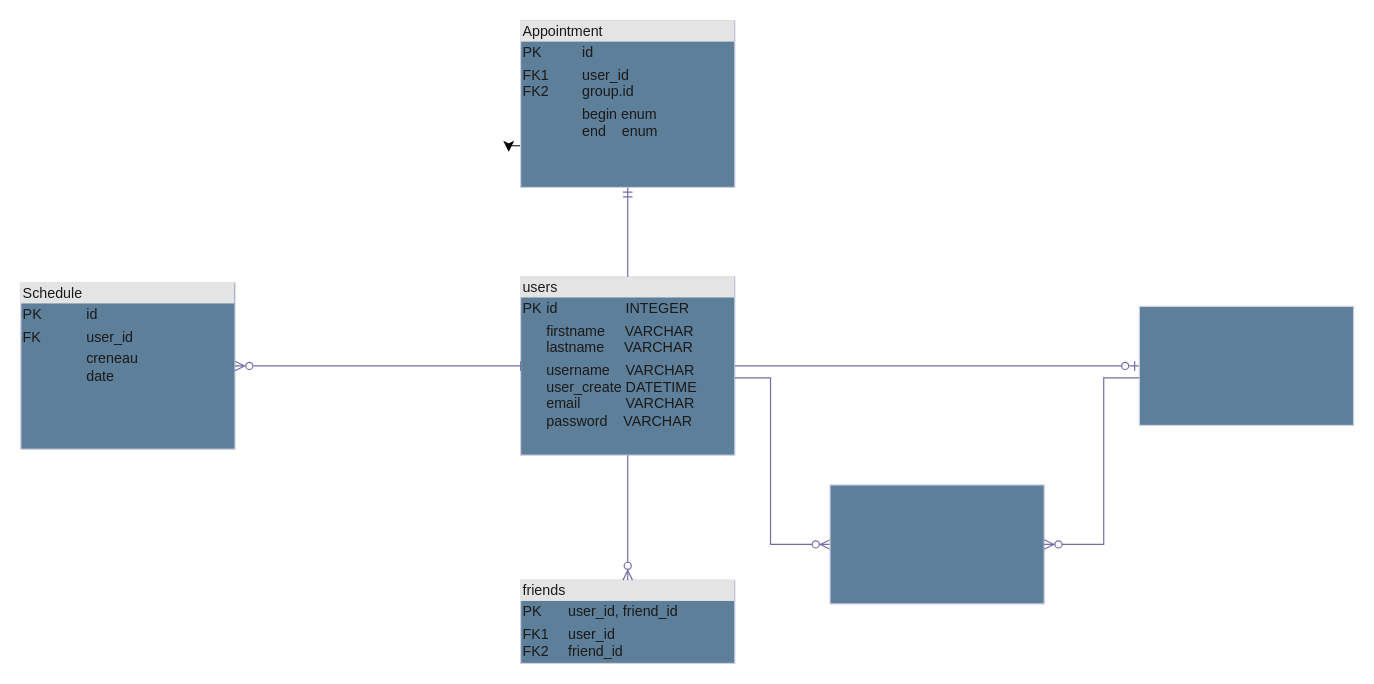
Some shapes in this 1374 by 684 pixel diagram are drawn without their labels. Here are the shapes that lost their labels. From the top down, the box of each, then its label:
(1138, 305, 1354, 425): user_group PK id FK1 owner_id INTEGER group_creation DATETIME name VARCHAR
(829, 484, 1044, 604): group_member FK1 user_id INTEGER FK2 group_id INTEGER PK user_id, group_id
